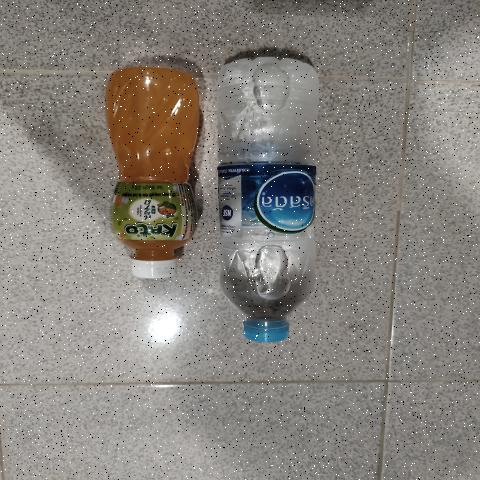crystal: (211, 50, 324, 349)
